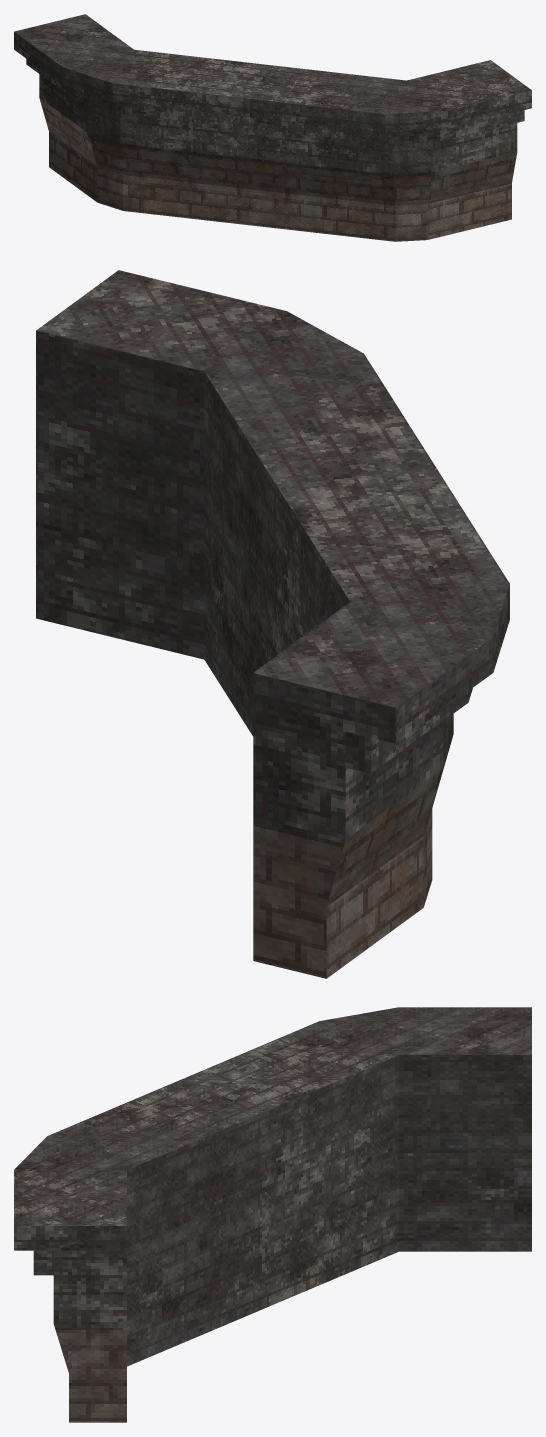
The model's file is roof_cladding_45degrees_01.gltf.
3 views of the same model, one above another, from view 1: azimuth 30°, elevation 25°; view 2: azimuth 150°, elevation 25°; view 3: azimuth 270°, elevation 25° (orthographic). The views are drawn at different scales.
Parts seen in each view (by area): view 1: roof_cladding_45degrees_01; view 2: roof_cladding_45degrees_01; view 3: roof_cladding_45degrees_01.
Part boxes in pixels (bbox=[...]): roof_cladding_45degrees_01: bbox=[14, 14, 531, 241]; roof_cladding_45degrees_01: bbox=[36, 270, 509, 978]; roof_cladding_45degrees_01: bbox=[14, 1007, 531, 1422].
Size of the model in its own units: 3.58 by 1.5 by 3.58.
1 material, 1 textured.
